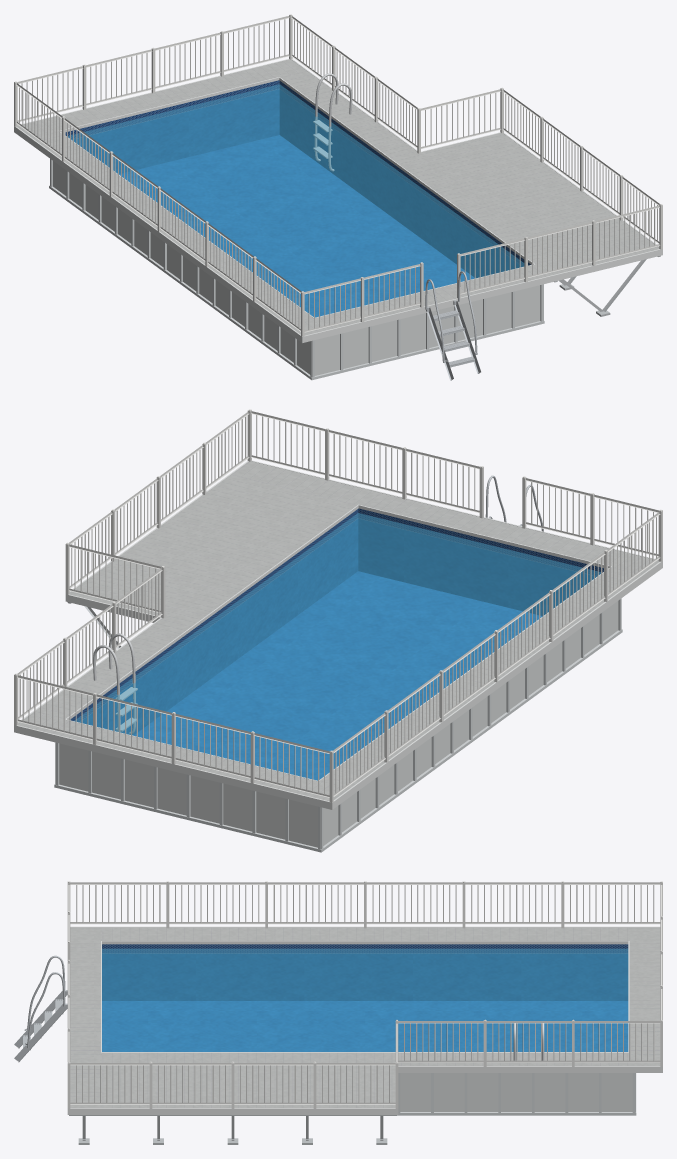
The model's file is kayak-pool-16x32-white-l-ag-fence.0aecef82d6.glb.
3 views of the same model, one above another, from view 1: azimuth 30°, elevation 25°; view 2: azimuth 150°, elevation 25°; view 3: azimuth 270°, elevation 25° (orthographic). The views are drawn at different scales.
Parts seen in each view (by area): view 1: water, deck, liner_floor, fence, liner_wall, wall, fascia, upright, ladder, steel, stud; view 2: water, deck, liner_floor, fence, liner_wall, wall, fascia, upright, steel; view 3: water, deck, liner_wall, liner_floor, fence, wall, fascia, upright, ladder, stud.
Boxes of the visible parts, x1,y1,x2,y2 form: water: (68,84,524,317); deck: (17,59,659,335); liner_floor: (119,135,474,317); fence: (14,14,662,336); liner_wall: (65,80,530,277); wall: (53,161,540,375); fascia: (14,59,662,342); upright: (49,159,544,380); ladder: (425,271,480,380); steel: (313,73,352,171); stud: (554,255,660,316); water: (74,513,600,780); deck: (18,461,659,801); liner_floor: (134,571,542,780); fence: (14,409,662,802); liner_wall: (70,508,603,735); wall: (59,601,618,847); fascia: (14,460,662,809); upright: (54,598,622,852); steel: (93,633,137,734); water: (102,948,628,1051); deck: (70,927,660,1107); liner_wall: (102,944,628,1000); liner_floor: (102,1001,628,1051); fence: (67,881,662,1108); wall: (400,1073,632,1111); fascia: (67,926,662,1114); upright: (397,1073,636,1115); ladder: (14,955,67,1062); stud: (69,1115,396,1144).
Size of the model in its own units: 7.93 by 2.15 by 11.96.
Materials: 11 (3 with a texture image).
